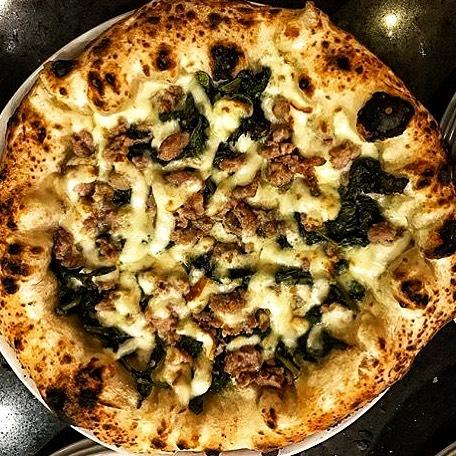Broccoli: (53, 262, 112, 341), (159, 100, 208, 156), (218, 66, 283, 108), (332, 195, 378, 246), (350, 158, 397, 194)
Chicken: (235, 126, 314, 183), (166, 160, 214, 241), (223, 183, 270, 237), (200, 300, 260, 337), (100, 130, 148, 172), (70, 183, 114, 220), (135, 308, 185, 339), (135, 272, 194, 296), (226, 356, 270, 379)
Pizza: (0, 0, 456, 456)
